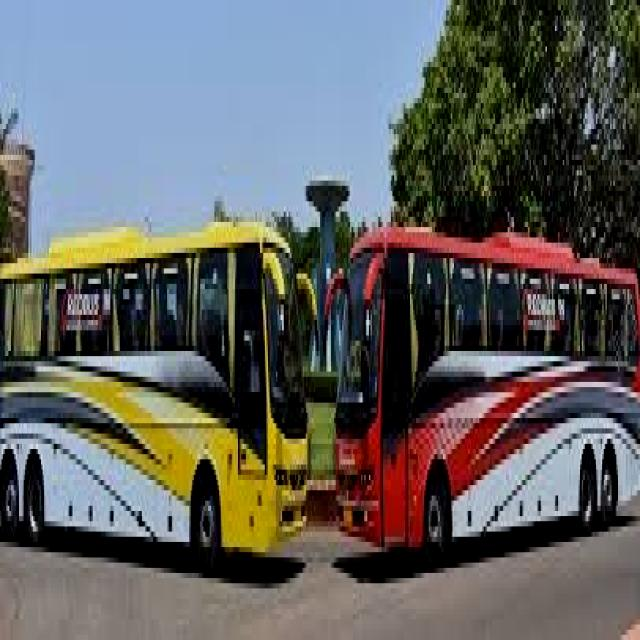bus: (21, 181, 323, 607), (326, 185, 640, 574)
